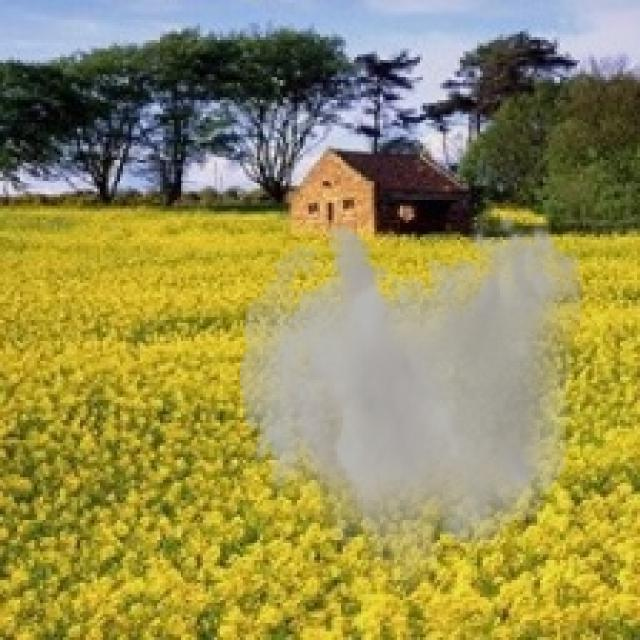Smoke: (240, 211, 586, 600)
